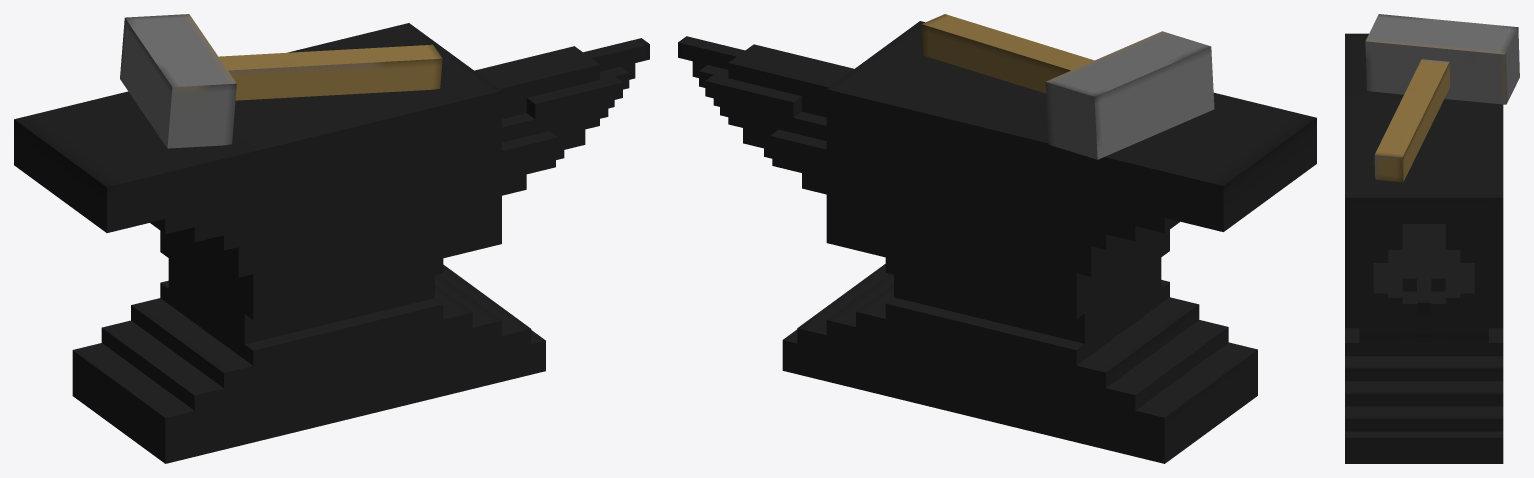
File: Model_Anvil.fbx
The picture shows the model from 3 angles, left to right: view 1: azimuth 30°, elevation 25°; view 2: azimuth 150°, elevation 25°; view 3: azimuth 270°, elevation 25°; orthographic projection. The views are drawn at different scales.
Visible parts, largest first — view 1: Model_Crafring_Station; view 2: Model_Crafring_Station; view 3: Model_Crafring_Station.
Part boxes in pixels (x1=…): Model_Crafring_Station: x1=14, y1=14, x2=649, y2=463; Model_Crafring_Station: x1=678, y1=14, x2=1316, y2=463; Model_Crafring_Station: x1=1345, y1=14, x2=1519, y2=463.
Size of the model in its own units: 200 by 117 by 60.86.
